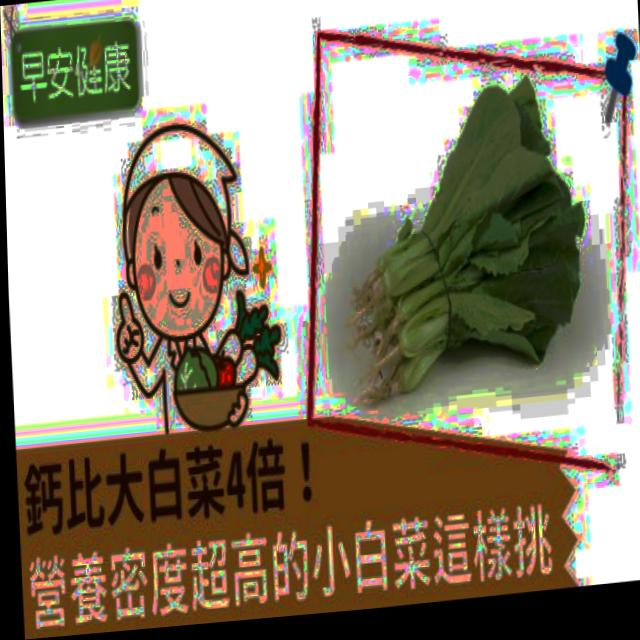chinese_cabbage: (334, 45, 602, 418)
